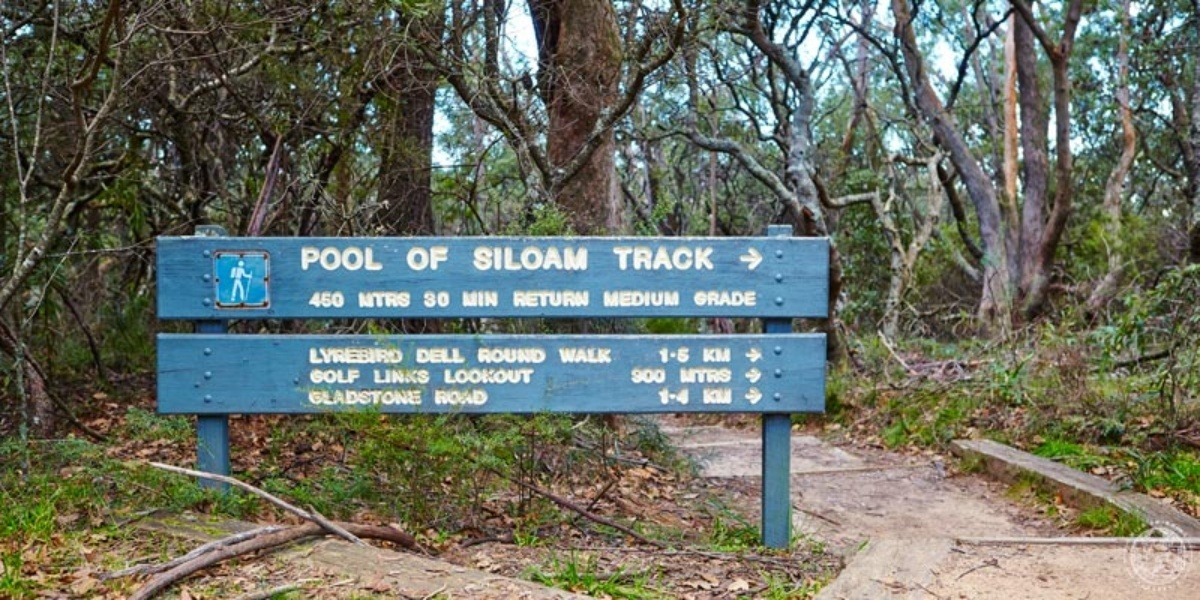text: (369, 245, 385, 272), (305, 245, 320, 272), (321, 245, 336, 272), (337, 245, 352, 272), (353, 245, 368, 272), (481, 245, 496, 272), (497, 245, 512, 272), (513, 245, 528, 272), (529, 245, 544, 272), (545, 245, 560, 272), (561, 245, 576, 272), (577, 245, 592, 272), (625, 245, 640, 272), (641, 245, 656, 272), (657, 245, 672, 272), (673, 245, 688, 272), (689, 245, 704, 272), (417, 245, 432, 272), (433, 245, 448, 272), (611, 245, 624, 272), (609, 289, 624, 310), (625, 289, 640, 310), (641, 289, 656, 310), (657, 289, 672, 310), (321, 365, 336, 386), (337, 365, 352, 386), (321, 290, 336, 310), (369, 290, 384, 310), (385, 290, 400, 310), (433, 290, 448, 310), (465, 290, 480, 310), (481, 290, 496, 310), (513, 290, 528, 310), (529, 290, 544, 310), (545, 290, 560, 310), (561, 290, 576, 310), (577, 290, 592, 310), (449, 386, 464, 406), (465, 386, 480, 406), (689, 365, 704, 385), (705, 365, 720, 385), (673, 386, 688, 406), (705, 386, 720, 406), (705, 245, 716, 272), (705, 289, 720, 308), (721, 289, 736, 308), (737, 289, 752, 308), (321, 346, 336, 365), (337, 346, 352, 365), (353, 346, 368, 365), (369, 346, 384, 365), (385, 346, 400, 365), (673, 346, 688, 365), (705, 346, 720, 365), (321, 388, 336, 407), (337, 388, 352, 407), (353, 388, 368, 407), (369, 388, 384, 407), (385, 388, 400, 407), (401, 388, 416, 407), (385, 367, 400, 386), (401, 367, 416, 386), (641, 367, 656, 386), (434, 386, 448, 406), (658, 386, 672, 406), (561, 347, 576, 365), (577, 347, 592, 365), (593, 347, 608, 365), (417, 347, 432, 365), (433, 347, 448, 365), (449, 347, 464, 365), (481, 347, 496, 365), (497, 347, 512, 365), (513, 347, 528, 365), (529, 347, 544, 365), (406, 245, 416, 272), (449, 368, 464, 386), (465, 368, 480, 386), (481, 368, 496, 386), (497, 368, 512, 386), (513, 368, 528, 386), (417, 367, 431, 386), (721, 365, 734, 385), (721, 386, 734, 406), (691, 289, 704, 308), (659, 346, 672, 365), (721, 346, 734, 365), (308, 290, 320, 310), (356, 290, 368, 310), (401, 290, 413, 310), (308, 388, 320, 407), (310, 365, 320, 386), (373, 367, 384, 386), (629, 367, 640, 386), (422, 290, 432, 310), (481, 386, 491, 406), (678, 365, 688, 385), (310, 346, 320, 365), (417, 388, 427, 407), (657, 367, 667, 386), (473, 245, 480, 272), (673, 289, 682, 310), (353, 365, 362, 386), (337, 290, 346, 310), (529, 368, 538, 386), (602, 289, 608, 310), (401, 346, 407, 365), (753, 289, 758, 308), (609, 347, 614, 365), (443, 368, 448, 386), (301, 245, 304, 272), (700, 346, 704, 365), (449, 290, 452, 310), (461, 290, 464, 310), (497, 290, 500, 310), (701, 386, 704, 406), (545, 347, 548, 365), (449, 245, 451, 272), (689, 386, 691, 406), (689, 346, 691, 365), (465, 347, 467, 365), (478, 347, 480, 365)
